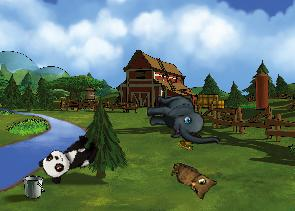elephant: (144, 89, 220, 153)
owl: (165, 161, 218, 202)
panda: (36, 128, 103, 187)
